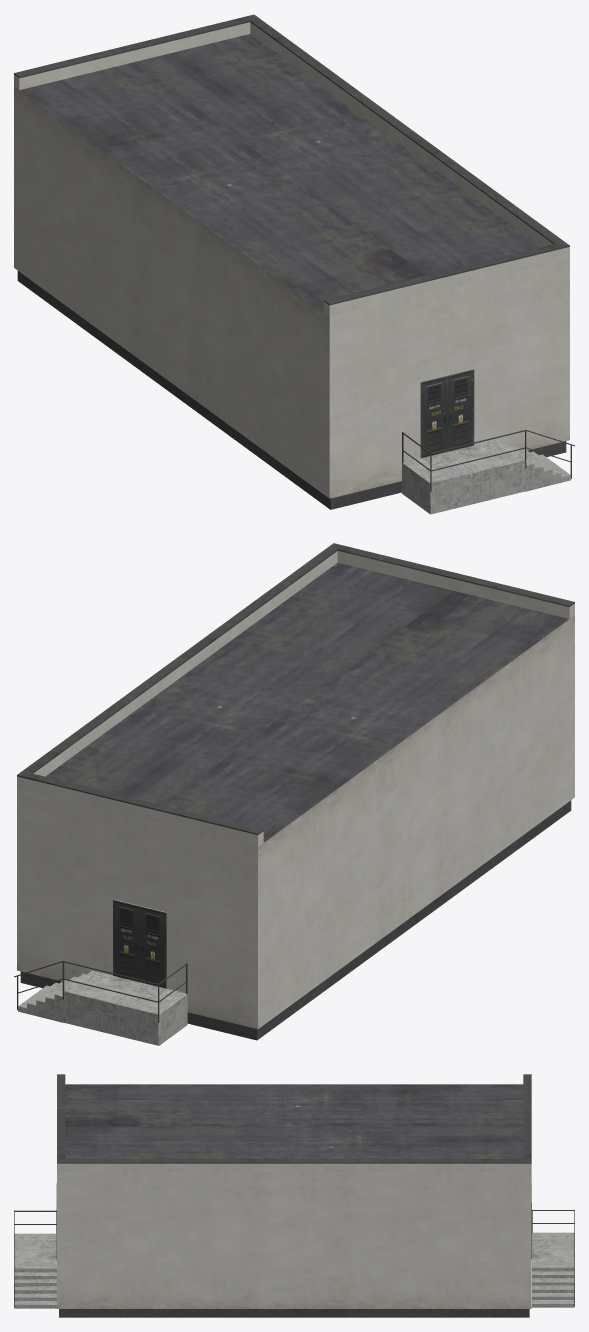
Rendered from plant-building28-1.glb.
3 views of the same model, one above another, from view 1: azimuth 30°, elevation 25°; view 2: azimuth 150°, elevation 25°; view 3: azimuth 270°, elevation 25° (orthographic). The views are drawn at different scales.
Parts seen in each view (by area): view 1: Box13983; view 2: Box13983; view 3: Box13983.
Boxes of the visible parts, x1,y1,x2,y2 form: Box13983: (14, 14, 574, 514); Box13983: (14, 543, 574, 1045); Box13983: (14, 1074, 574, 1317).
Bounding box in the file's own units: 7.65 × 6.32 × 20.58.
1 material, 1 textured.
